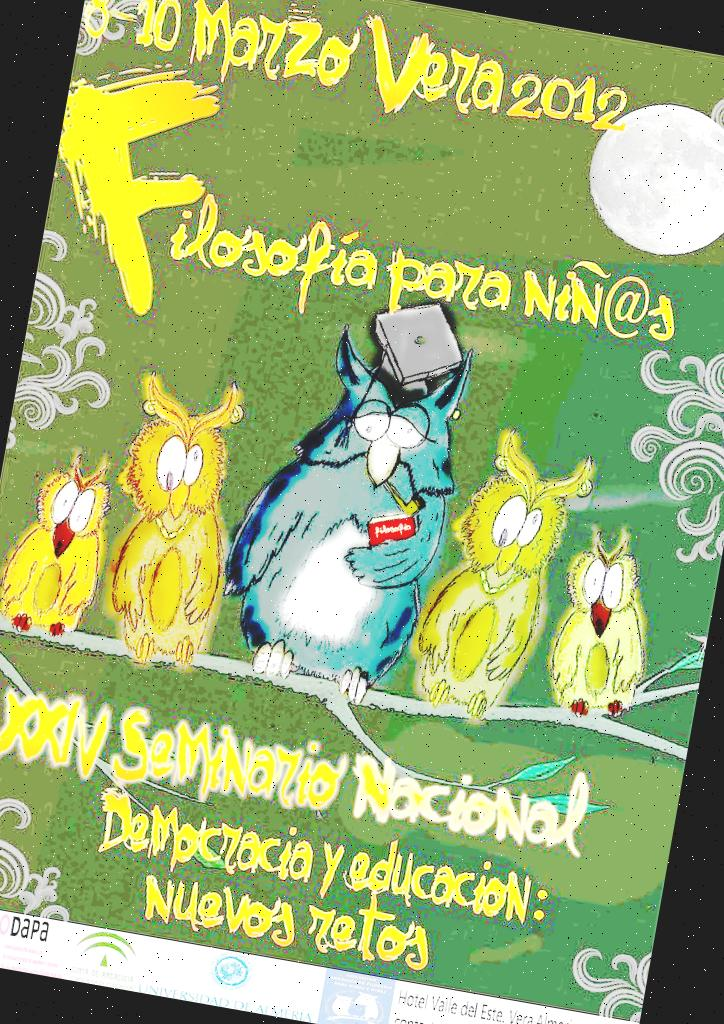Owl: (205, 320, 478, 718), (405, 417, 598, 741), (90, 371, 238, 671), (544, 523, 674, 730), (0, 443, 119, 650)
